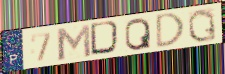7: (29, 31, 52, 63)
D: (89, 19, 123, 57), (155, 11, 186, 50)
M: (54, 23, 93, 61)
Q: (186, 8, 218, 44), (124, 16, 153, 51)
